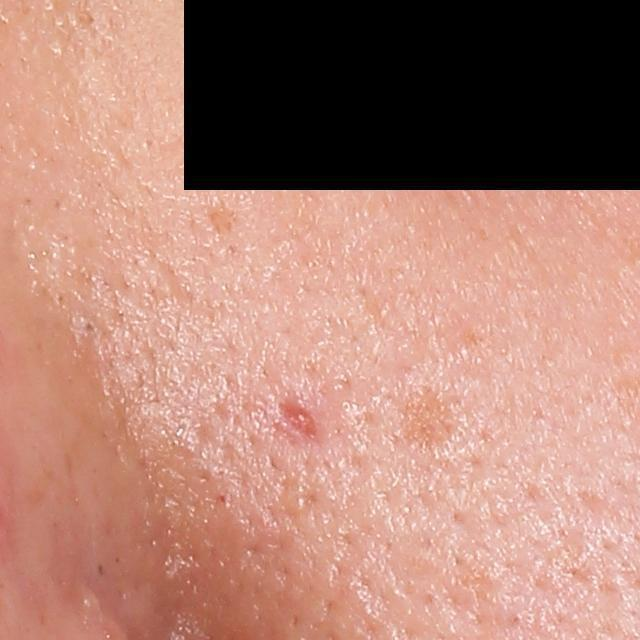melasma: (201, 199, 240, 240)
